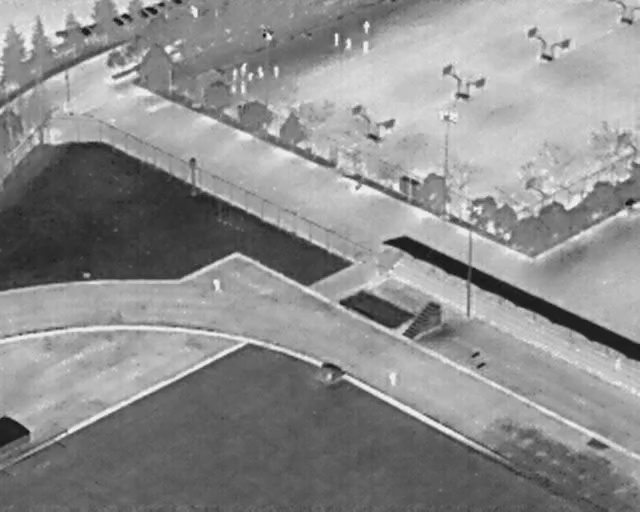Car: (108, 11, 126, 29), (75, 23, 92, 40), (118, 8, 135, 25), (86, 19, 101, 35), (143, 2, 159, 16), (137, 7, 150, 20), (157, 1, 166, 9), (171, 0, 184, 4)
Person: (388, 370, 398, 388), (211, 278, 223, 292), (361, 20, 370, 35), (240, 61, 247, 78), (229, 83, 238, 96), (232, 67, 239, 83), (362, 41, 370, 54), (272, 66, 280, 79), (256, 65, 263, 79), (614, 358, 622, 370), (333, 32, 339, 48), (240, 82, 247, 95), (247, 71, 255, 81), (345, 38, 352, 49)
